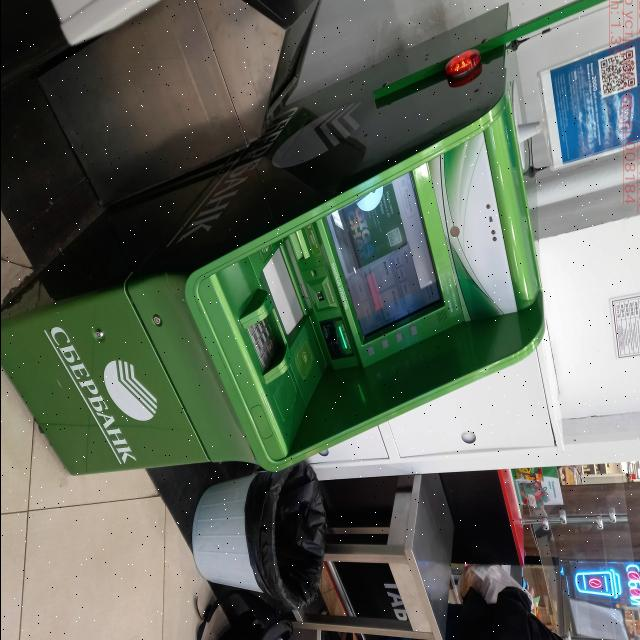bank: (0, 2, 546, 484)
